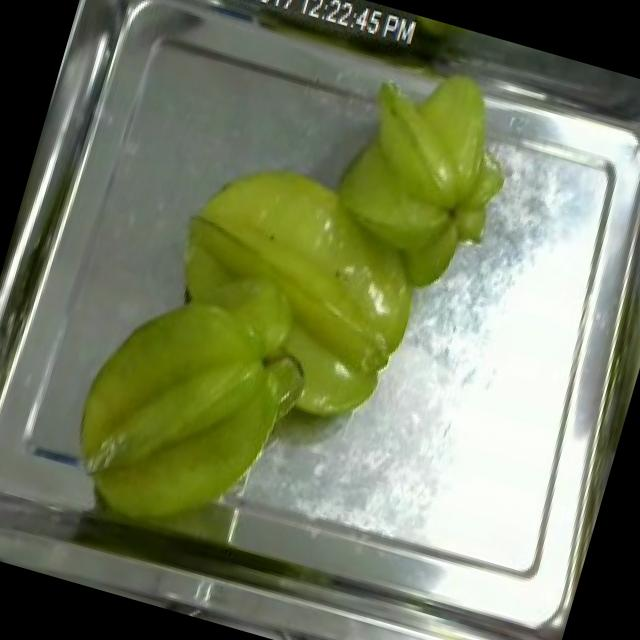fruit: (134, 130, 454, 453), (36, 262, 323, 574), (300, 36, 537, 314)
